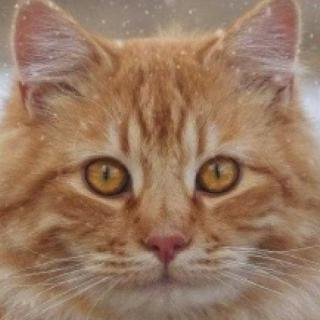cat: (4, 0, 308, 313)
nose: (139, 207, 198, 263)
